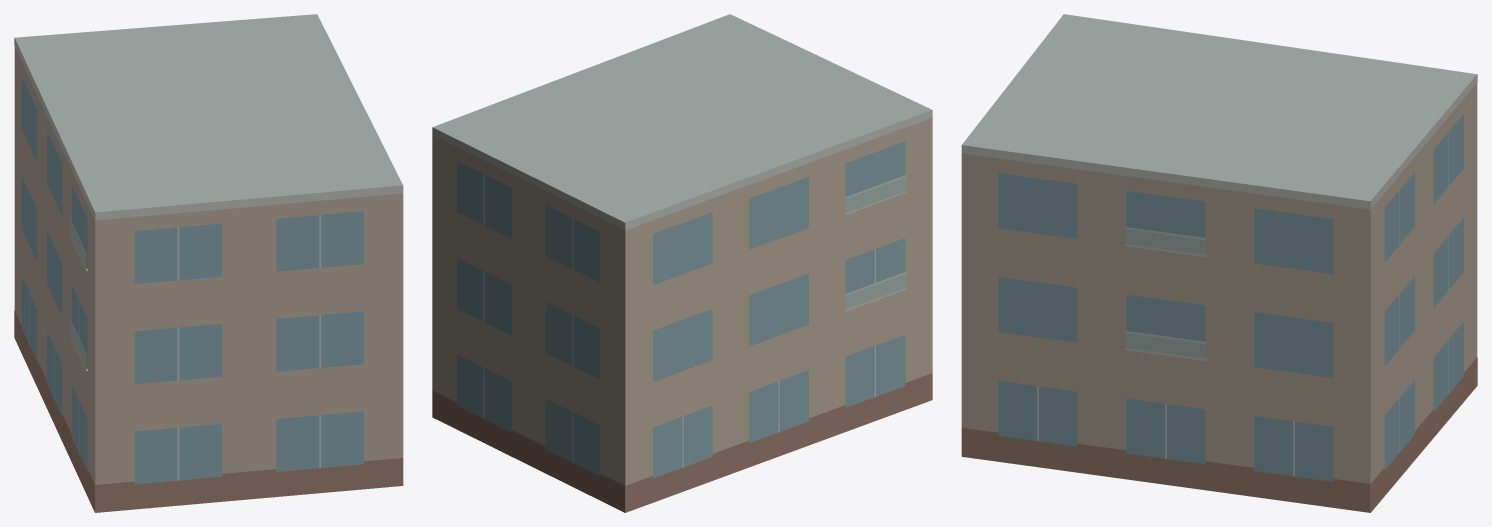
The model's file is survey-upis-32713066.glb.
The picture shows the model from 3 angles, left to right: view 1: azimuth 30°, elevation 25°; view 2: azimuth 150°, elevation 25°; view 3: azimuth 270°, elevation 25°; orthographic projection. The views are drawn at different scales.
Parts seen in each view (by area): view 1: survey-upis-32713066.tmp; view 2: survey-upis-32713066.tmp; view 3: survey-upis-32713066.tmp.
Boxes of the visible parts, bbox=[...] form: survey-upis-32713066.tmp: bbox=[14, 14, 403, 512]; survey-upis-32713066.tmp: bbox=[432, 14, 932, 512]; survey-upis-32713066.tmp: bbox=[961, 14, 1477, 512].
Size of the model in its own units: 11.8 by 9.15 by 13.74.
